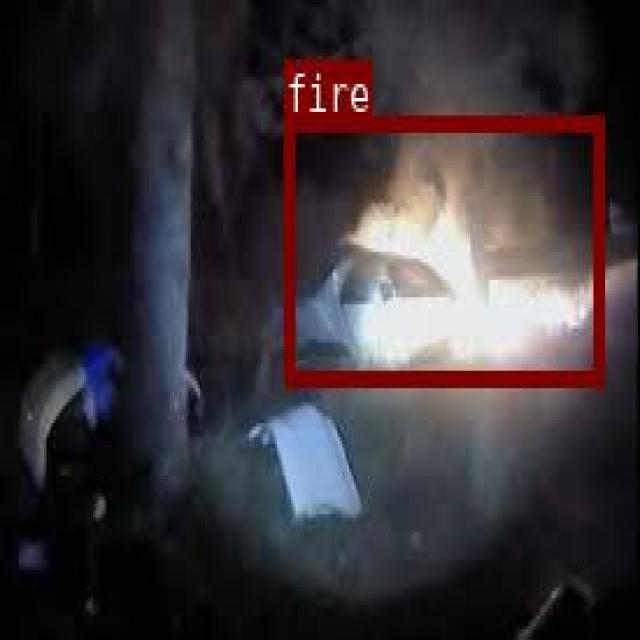fire: (284, 115, 602, 383)
